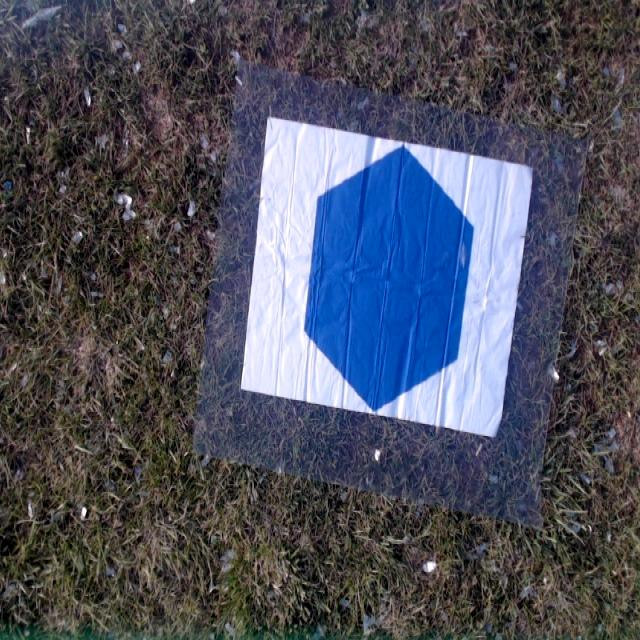blue_hexagon: (303, 146, 474, 413)
